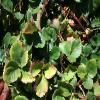Strawberry leaf: (10, 39, 28, 69), (1, 60, 20, 86), (31, 30, 47, 49), (85, 58, 98, 78), (20, 68, 36, 83), (71, 38, 83, 57), (58, 39, 71, 54), (83, 74, 94, 91), (77, 62, 86, 81), (65, 52, 77, 64)
